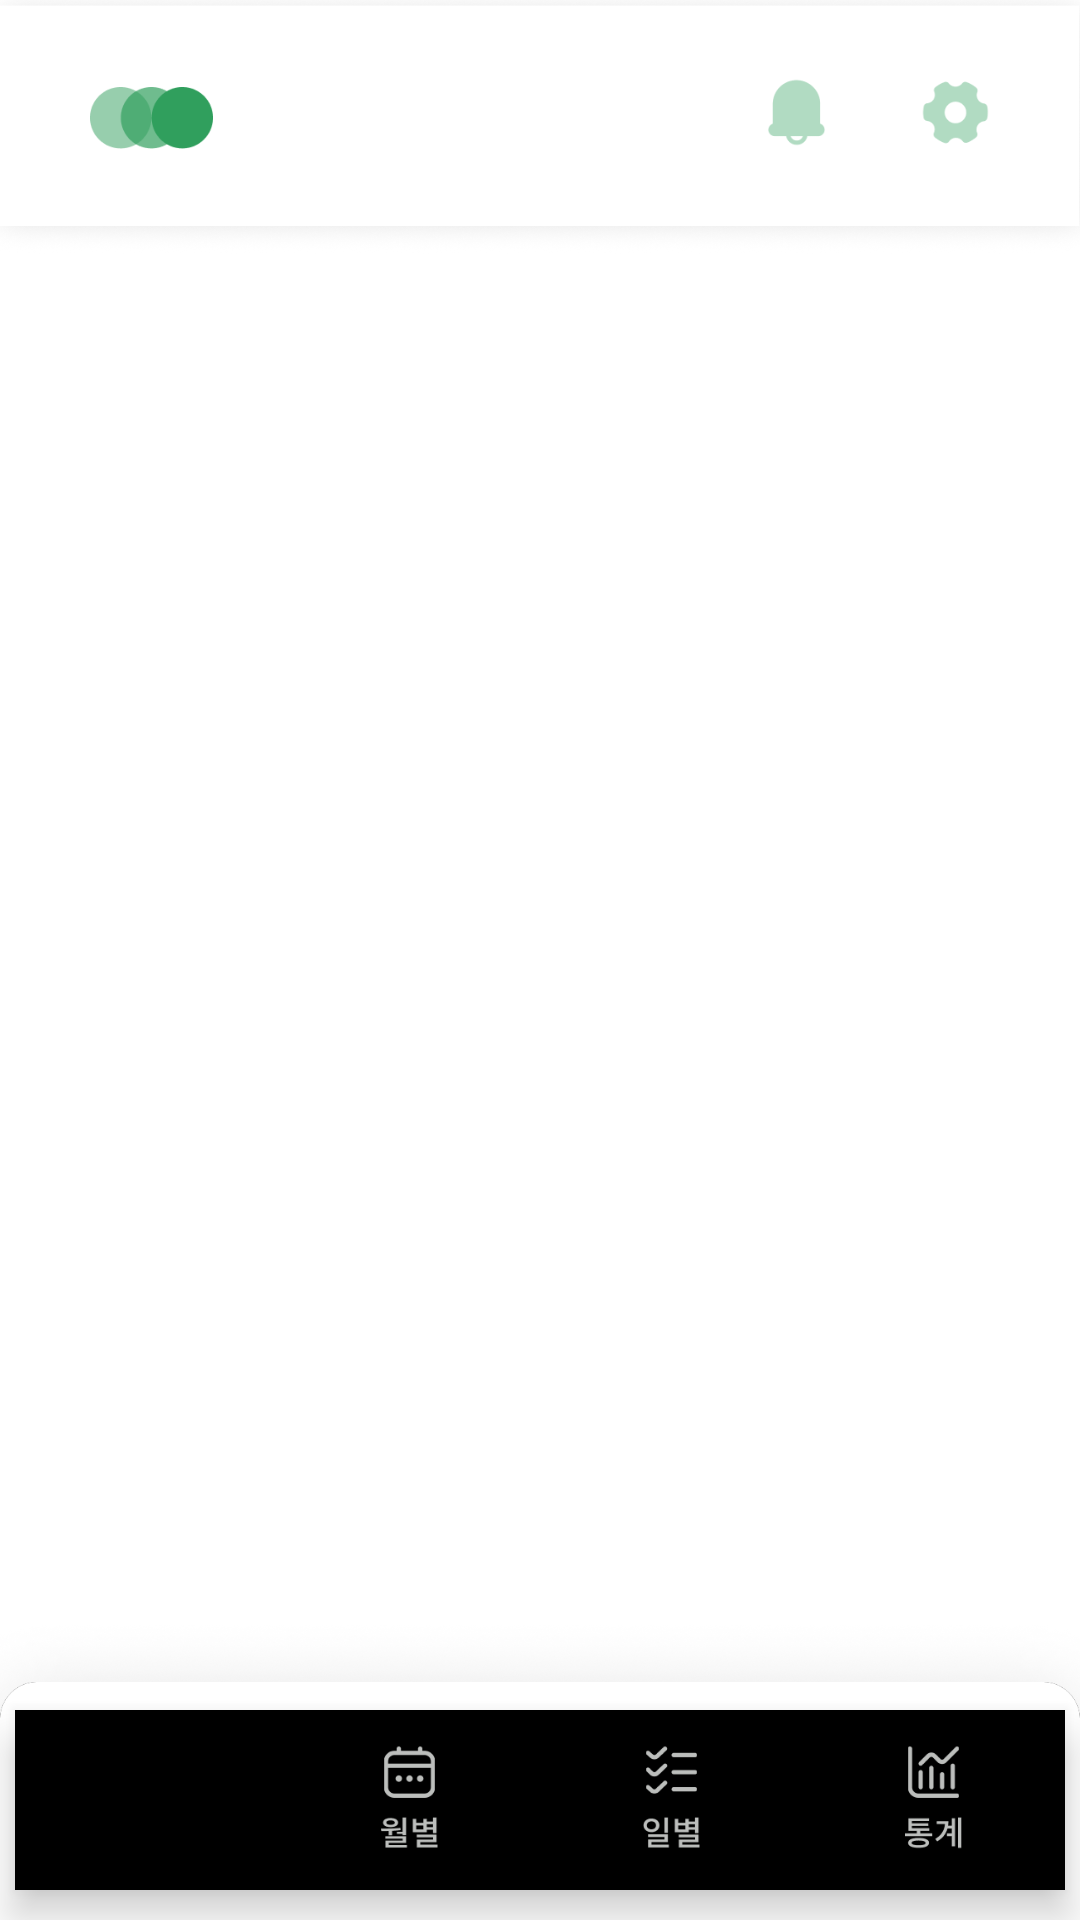

Screen size 1080w x 1920h. Icon name, then its center in pixels as (x=x, y=y):
top alarm: (x=796, y=112)
top setting: (x=955, y=112)
